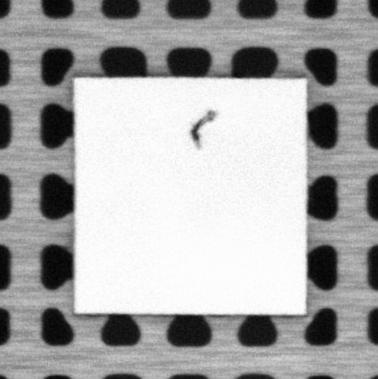DIE_INK: (189, 107, 217, 150)
